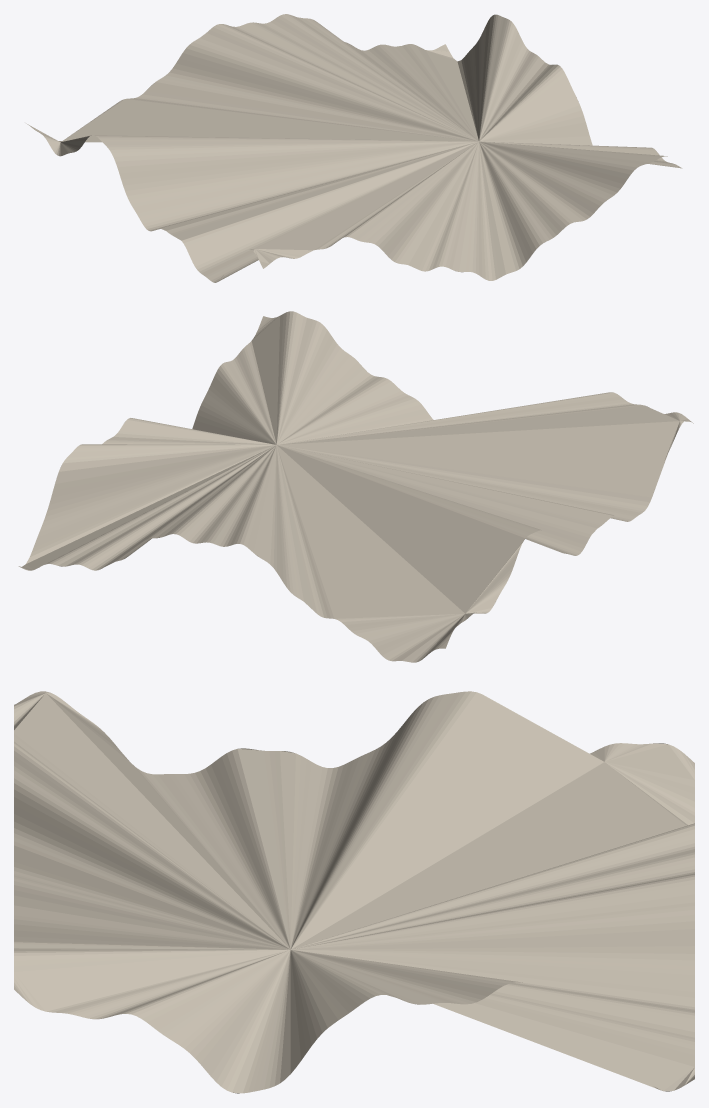
Rendered from staged-terrain.glb.
The picture shows the model from 3 angles, top to bottom: view 1: azimuth 30°, elevation 25°; view 2: azimuth 150°, elevation 25°; view 3: azimuth 270°, elevation 25°; orthographic projection. The views are drawn at different scales.
Visible parts, largest first — view 1: terrain; view 2: terrain; view 3: terrain.
Part boxes in pixels (x1=…): terrain: x1=26, y1=14, x2=682, y2=282; terrain: x1=18, y1=311, x2=693, y2=662; terrain: x1=14, y1=691, x2=694, y2=1093.
Bounding box in the file's own units: 40 × 7.8 × 40.
